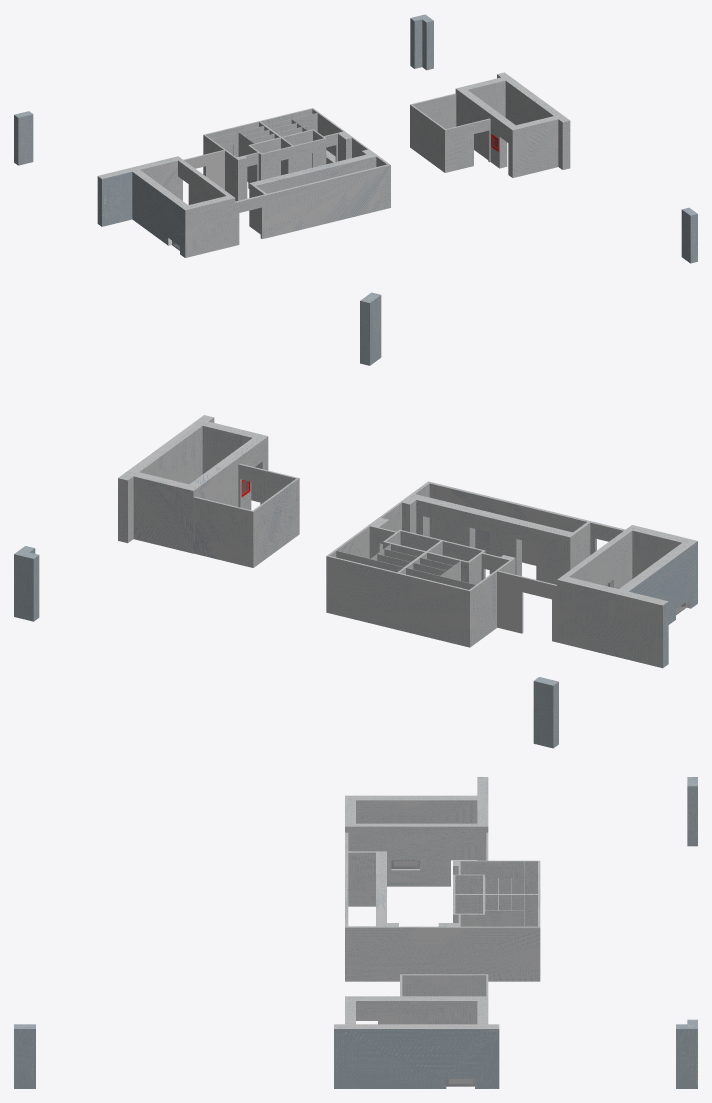
Rendered from floor_walls.fbx.
3 renders of one model, top to bottom at view 1: azimuth 30°, elevation 25°; view 2: azimuth 150°, elevation 25°; view 3: azimuth 270°, elevation 25°, orthographic. The views are drawn at different scales.
Visible parts, largest first — view 1: floor_walls; view 2: floor_walls; view 3: floor_walls.
Boxes of the visible parts, <box> form: floor_walls: <box>14,14,697,263</box>; floor_walls: <box>14,292,697,748</box>; floor_walls: <box>14,777,697,1088</box>.
Size of the model in its own units: 27 by 3 by 31.
